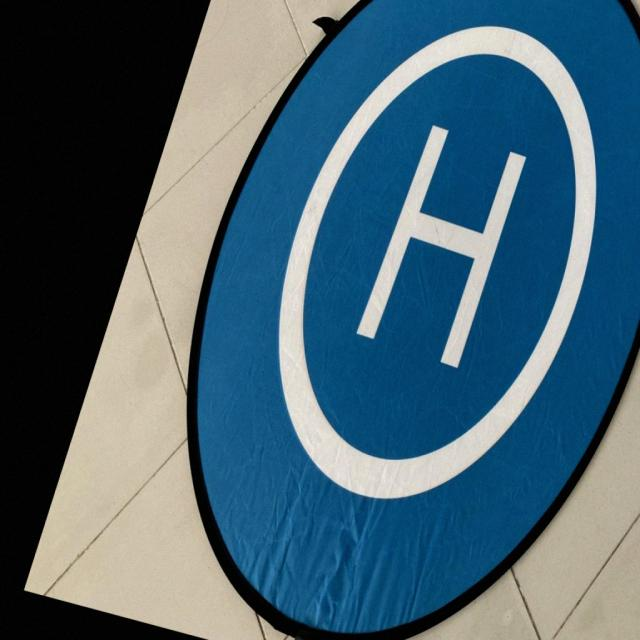helipad: (273, 16, 602, 502)
